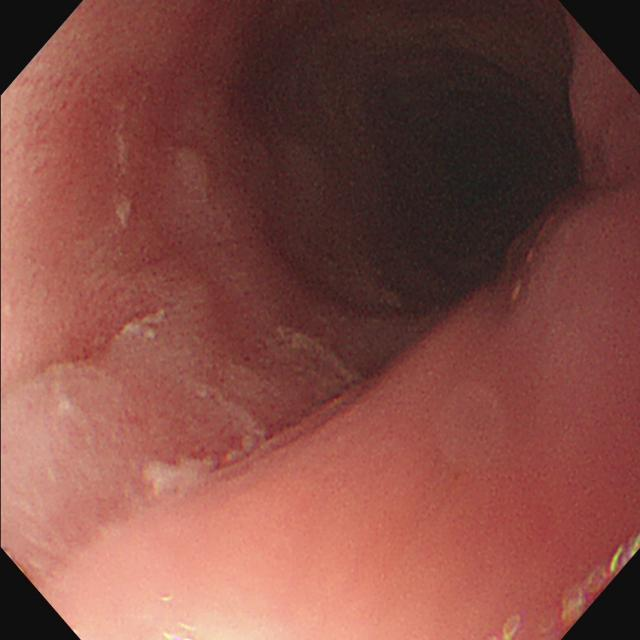E: (255, 14, 582, 311)
J: (143, 427, 265, 492), (276, 327, 352, 386), (114, 105, 133, 230), (124, 307, 170, 342)
